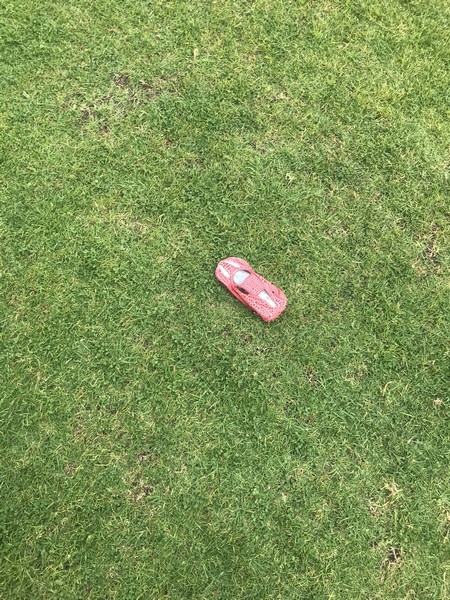RC: (212, 255, 292, 325)
